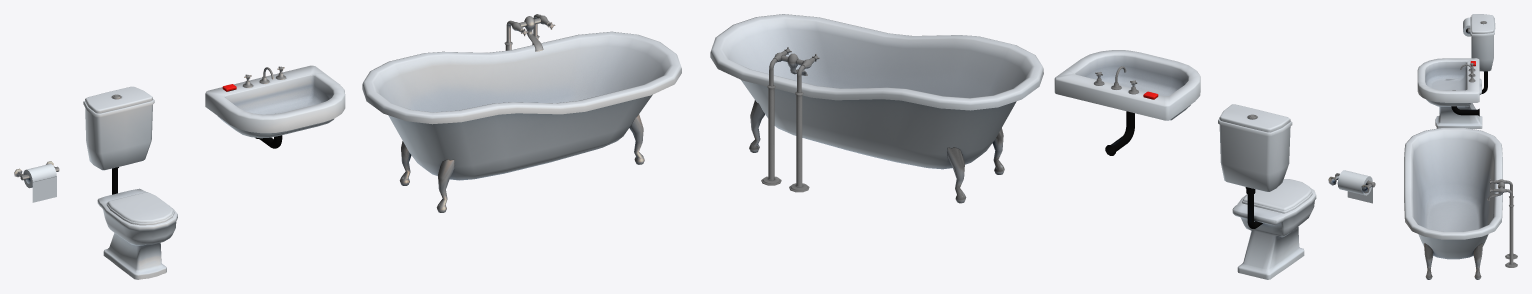
Rendered from Bathroom.FBX.
The picture shows the model from 3 angles, left to right: view 1: azimuth 30°, elevation 25°; view 2: azimuth 150°, elevation 25°; view 3: azimuth 270°, elevation 25°; orthographic projection. The views are drawn at different scales.
Parts seen in each view (by area): view 1: Bath, Water_Closet (×3), Washbasin, Toilet_Paper, Mixer_Tap; view 2: Bath, Water_Closet (×3), Washbasin, Mixer_Tap, Toilet_Paper; view 3: Bath, Washbasin, Water_Closet (×2), Mixer_Tap, Toilet_Paper.
Boxes of the visible parts, x1,y1,x2,y2 form: Bath: (362, 31, 681, 212); Water_Closet (×3): (83, 86, 177, 279); Washbasin: (205, 65, 345, 148); Toilet_Paper: (14, 161, 59, 202); Mixer_Tap: (504, 14, 550, 51); Bath: (710, 14, 1043, 203); Water_Closet (×3): (1218, 104, 1316, 279); Washbasin: (1054, 50, 1200, 155); Mixer_Tap: (761, 51, 814, 192); Toilet_Paper: (1328, 170, 1375, 203); Bath: (1404, 127, 1502, 279); Washbasin: (1417, 58, 1479, 116); Water_Closet (×2): (1435, 14, 1495, 128); Mixer_Tap: (1487, 179, 1517, 267); Toilet_Paper: (1463, 17, 1470, 36).
Bounding box in the file's own units: 4.4 × 1.04 × 1.03.
